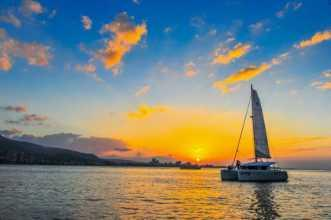fanchuan: (220, 84, 297, 180)
